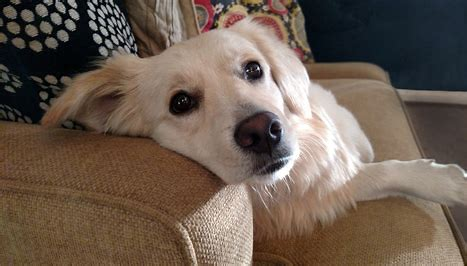dog: (42, 8, 467, 245)
